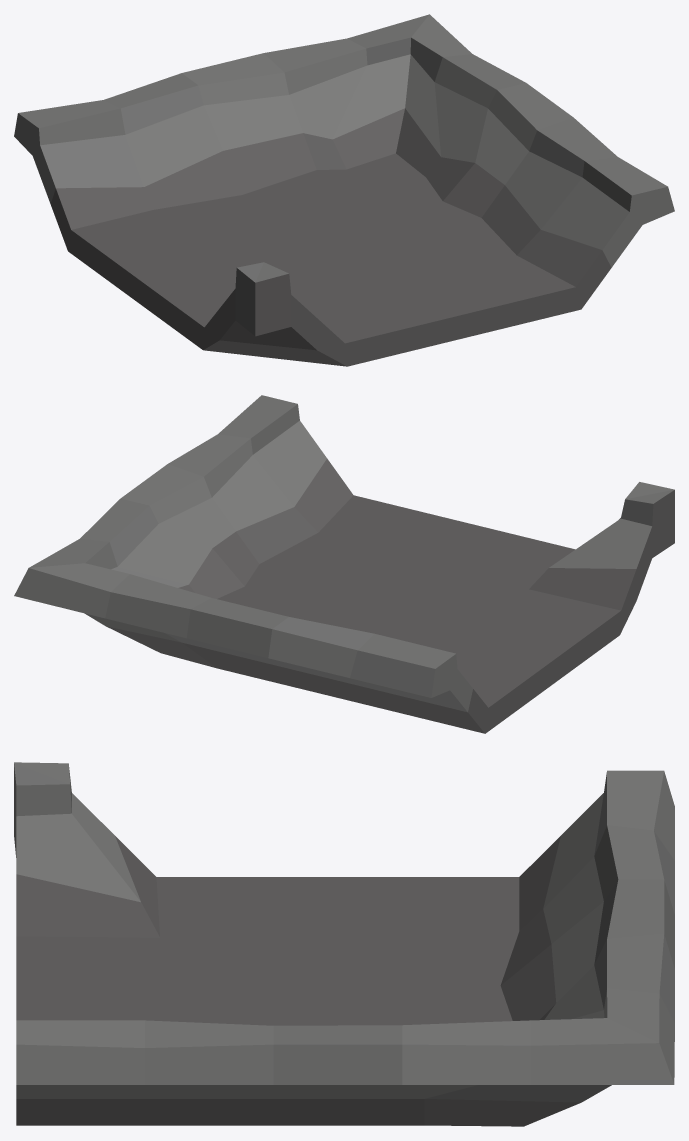
The model's file is SM_Env_Sewer_Canal_Corner_01.FBX.
The picture shows the model from 3 angles, top to bottom: view 1: azimuth 30°, elevation 25°; view 2: azimuth 150°, elevation 25°; view 3: azimuth 270°, elevation 25°; orthographic projection. The views are drawn at different scales.
Parts seen in each view (by area): view 1: SM_Env_Sewer_Canal_Corner_01; view 2: SM_Env_Sewer_Canal_Corner_01; view 3: SM_Env_Sewer_Canal_Corner_01.
Part boxes in pixels (x1,y1,x2,y2): SM_Env_Sewer_Canal_Corner_01: (14,14,674,366); SM_Env_Sewer_Canal_Corner_01: (14,395,674,733); SM_Env_Sewer_Canal_Corner_01: (14,762,674,1126).
Size of what is drawn, in the model's own units: 514 by 514 by 125.
